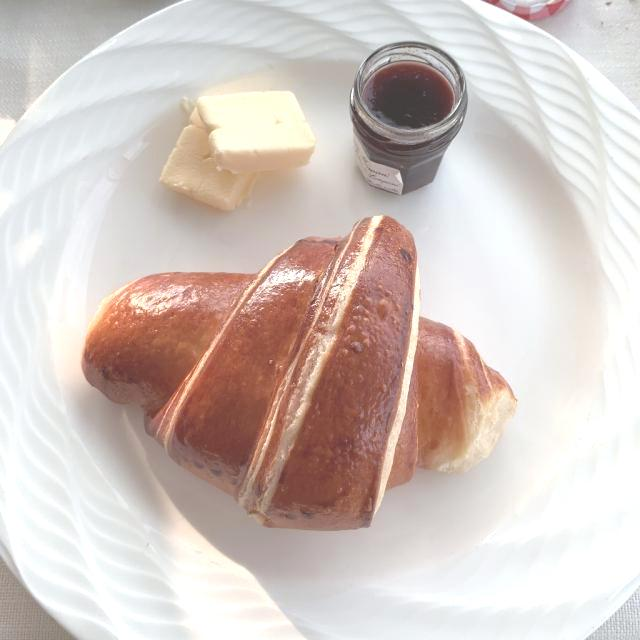Croissant: (66, 208, 522, 536)
